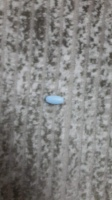Apranax: (44, 95, 65, 105)
